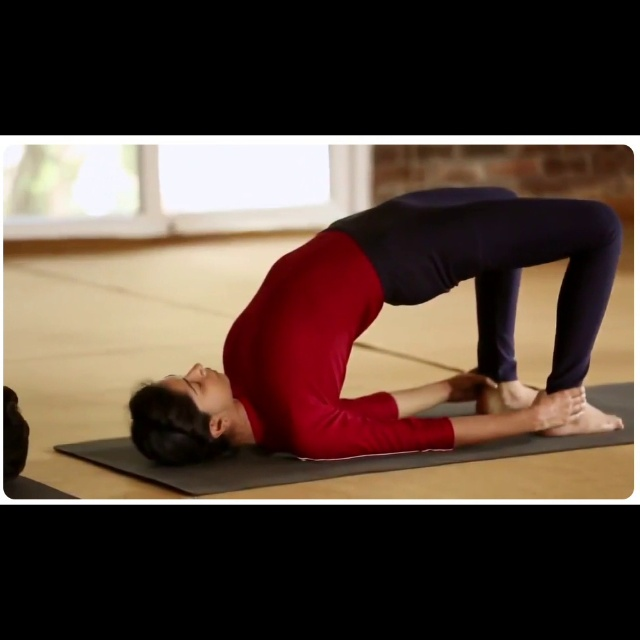Bridge_Pose: (127, 181, 623, 464)
